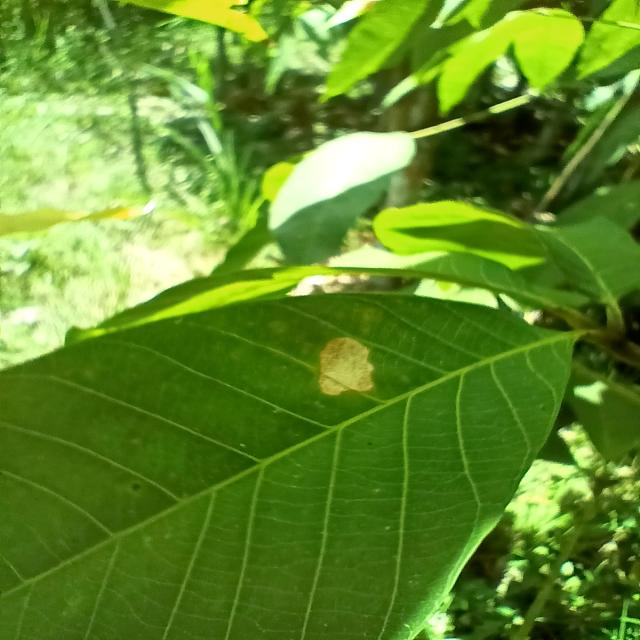Leaf-Blight: (319, 337, 374, 397)
